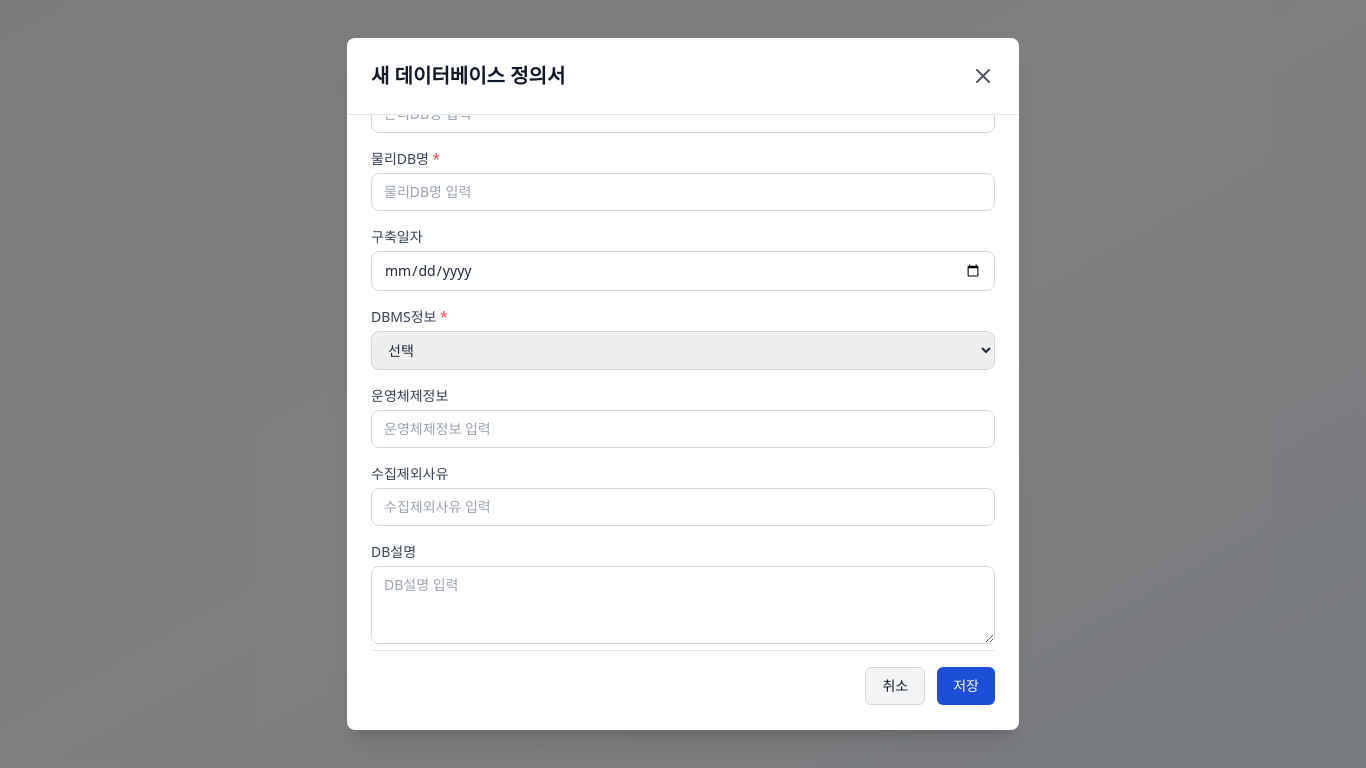
Test case: DatabaseEditor › Form Validation › 필수 필드가 비어있을 때 저장 시 에러 표시
(page scrolled)
Click the button "저장" at (966, 686), box [937, 667, 995, 705]
(page scrolled)
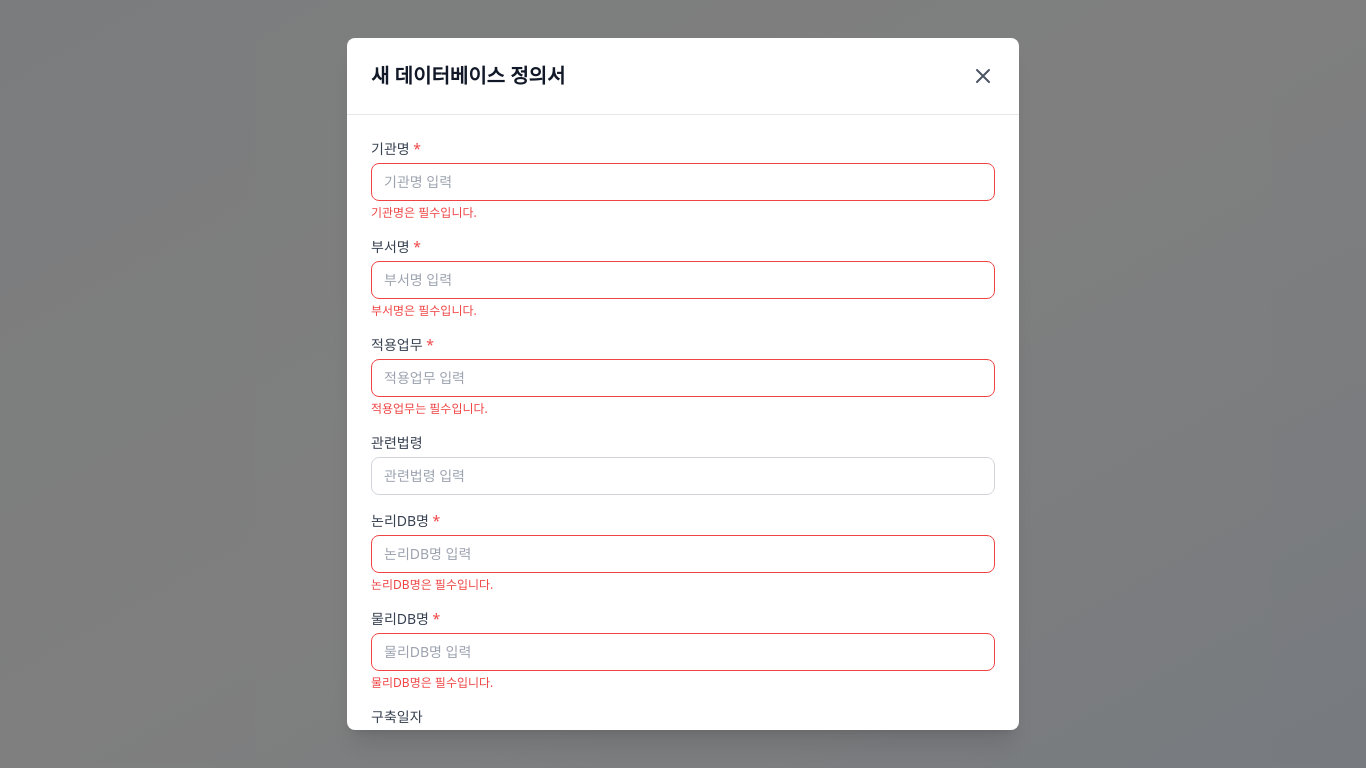
Check: the text "기관명은 필수입니다." is shown, box [371, 204, 477, 221]
